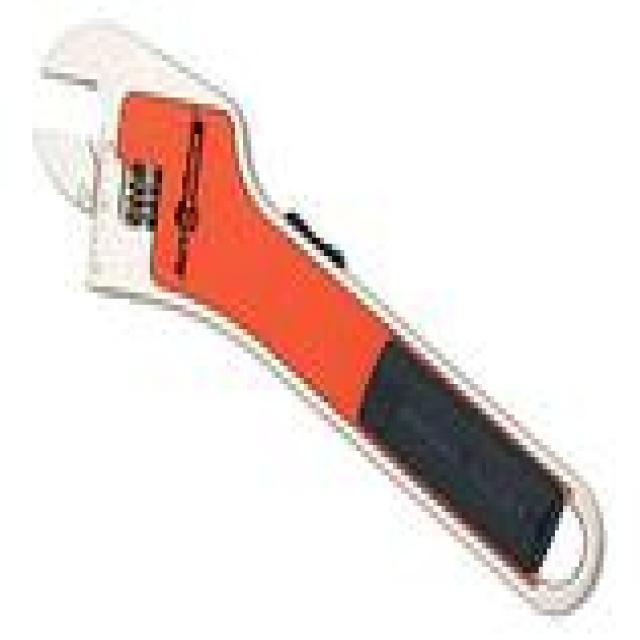wrench: (29, 21, 586, 598)
